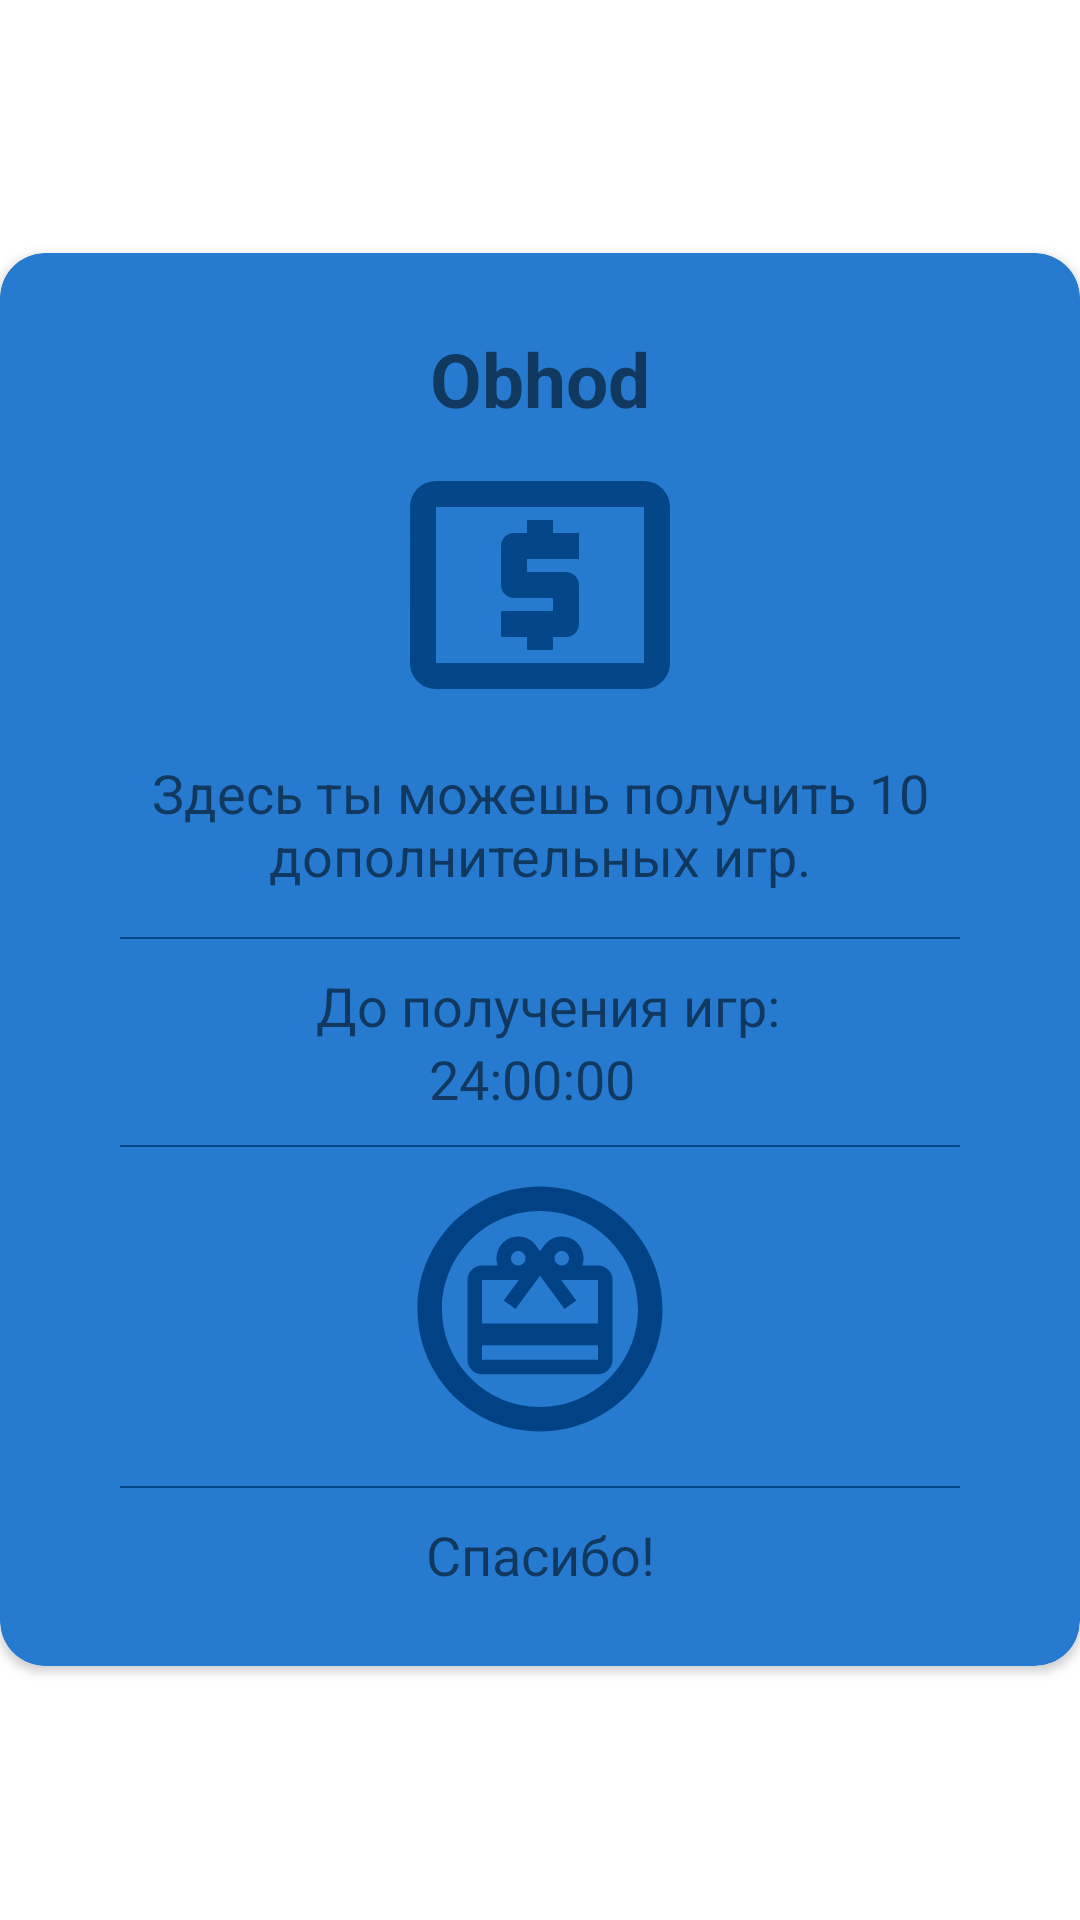

Screen size 1080px×1920px. Icon name, then its center in pixels as point (x, y):
alert dialog shop: point (540, 585)
reward: point (540, 1309)
